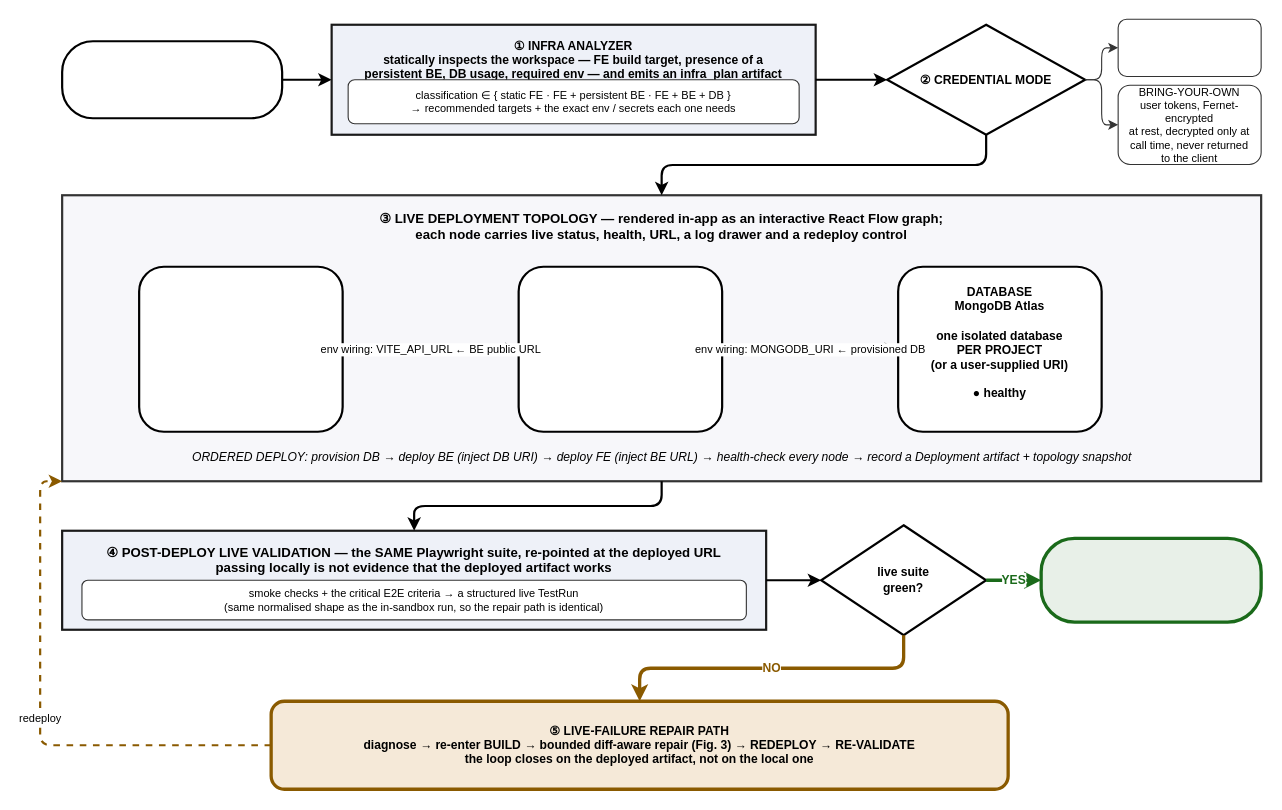
Some shapes in this 1282 by 810 pixel diagram are drawn without their labels. Here are the shapes that lost their labels. From the top down, the box of each, then its label:
(1117, 18, 1261, 76): SEAMLESS platform-owned tokens — beginner path, zero setup
(61, 40, 283, 119): Passing build in the project sandbox (hard prereq: deploy ⇐ build)
(138, 265, 343, 432): FRONTEND Vercel React + Vite SPA static build output ● healthy
(517, 265, 723, 432): BACKEND Render Node + Express + TS persistent web service ● healthy
(1039, 536, 1262, 623): DELIVER THE LIVE, VALIDATED URL stage → complete
